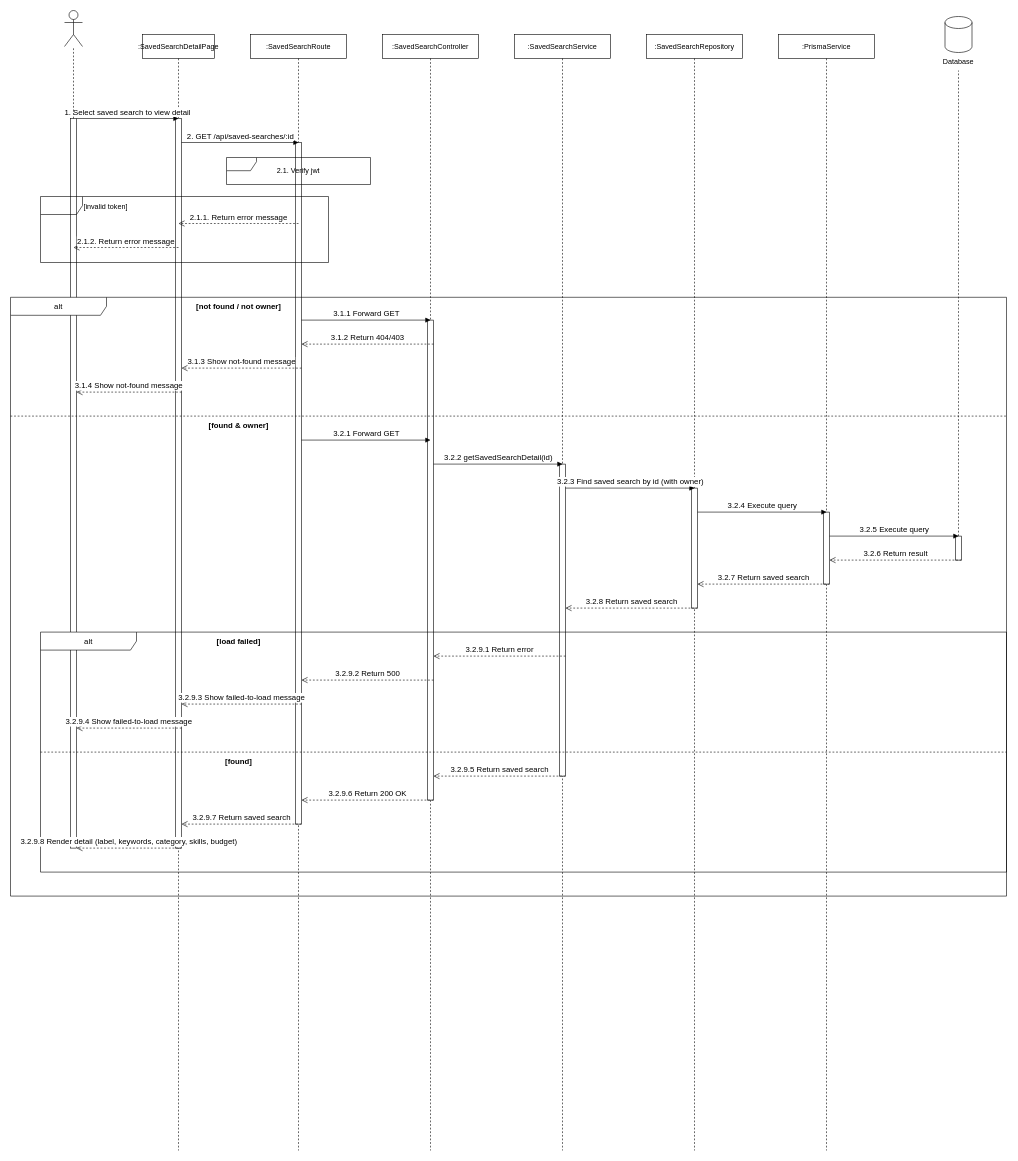
This 1018x1161 diagram has some shape labels left out. The shapes that lost their labels are listed below. From the top down, each one's box as (x1, y1, x2, y2) in pixels, then its label:
(64, 10, 82, 46): Freelancer
(226, 157, 370, 184): ref
(40, 196, 328, 262): opt
